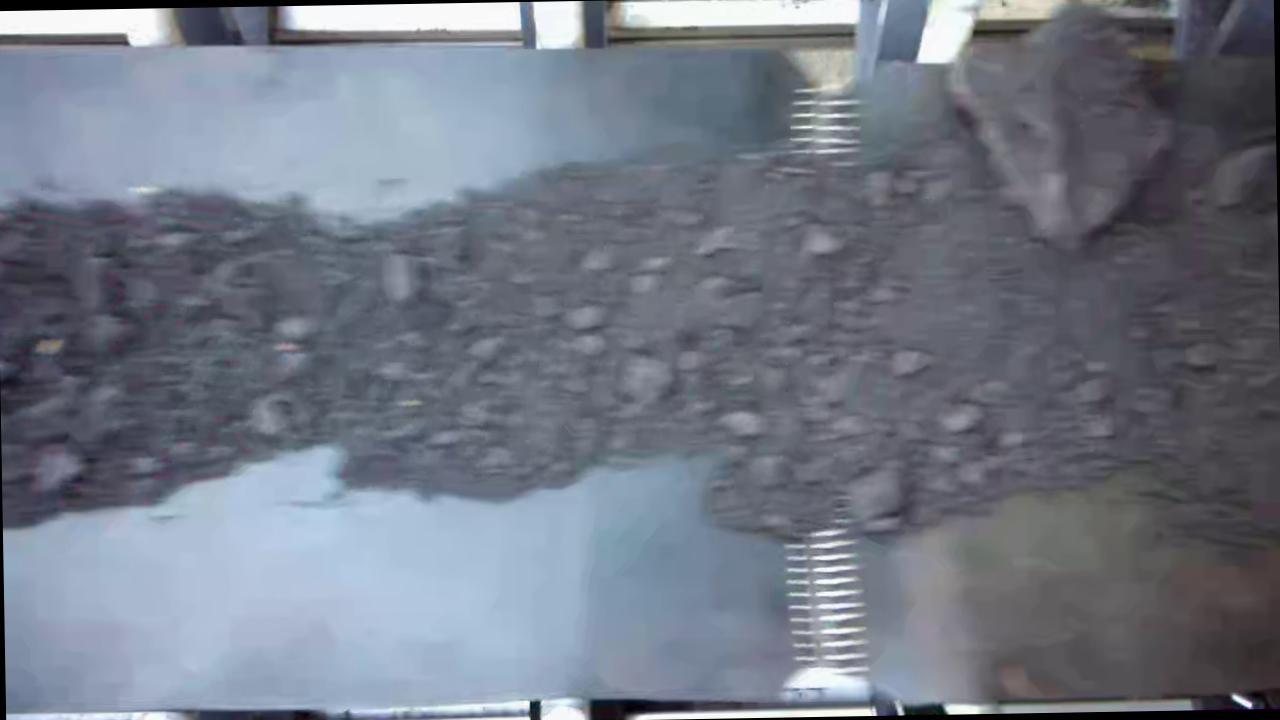conveyor: (2, 53, 1280, 711)
